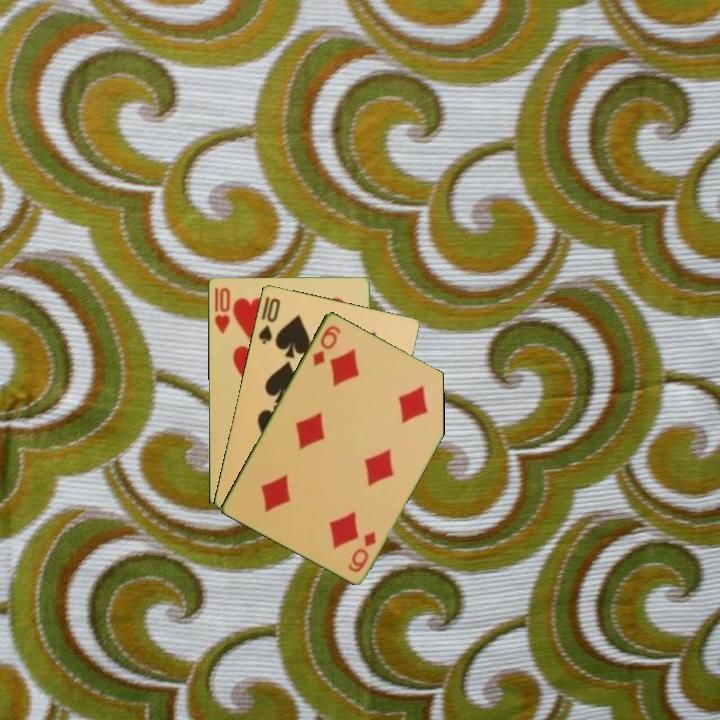10h: (210, 284, 233, 336)
10s: (254, 294, 283, 347)
6d: (344, 527, 379, 575), (309, 321, 343, 369)
